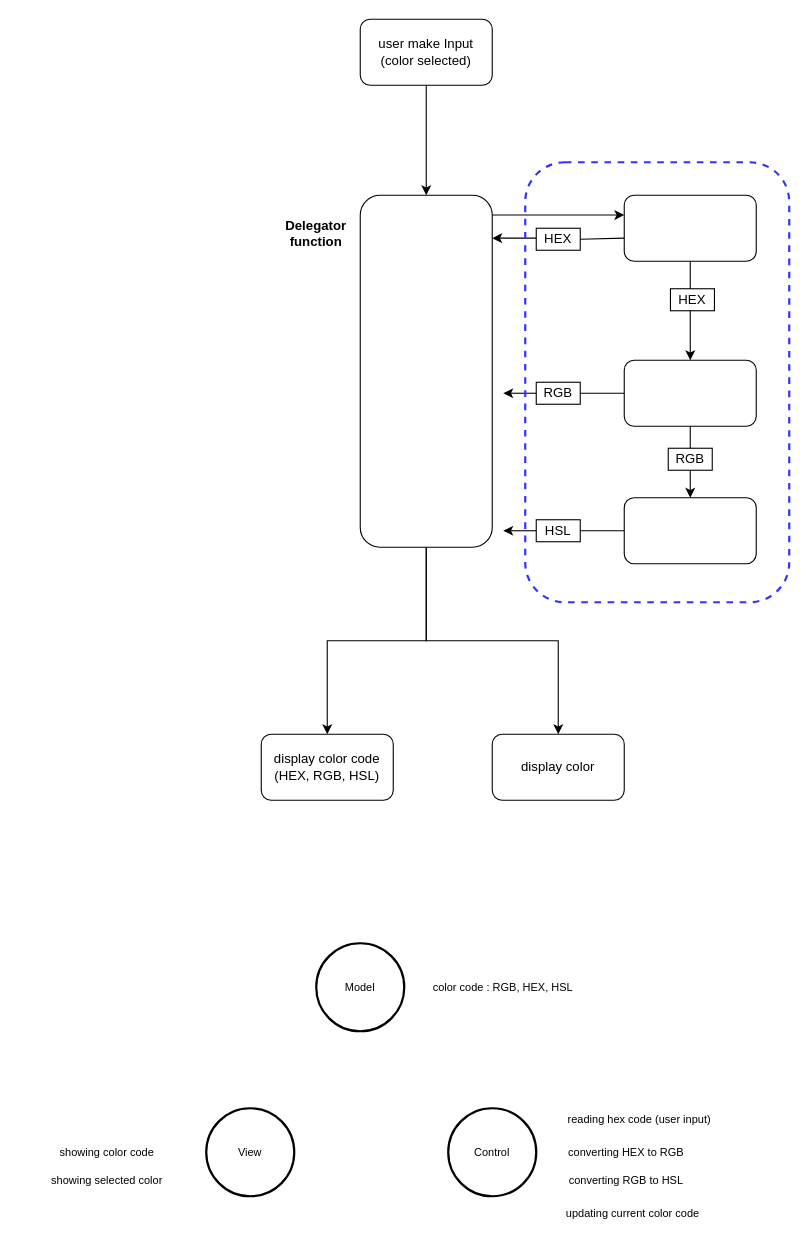
Image size: 809x1249. Some labels were removed from this diagram. Each missing label, with the centre of its shape:
"convert HEX to RGB" belongs at (x=689, y=392).
"convert RGB to HSL" belongs at (x=689, y=530).
"read Input (HEX)" belongs at (x=689, y=227).
"updating current color" belongs at (x=425, y=370).
